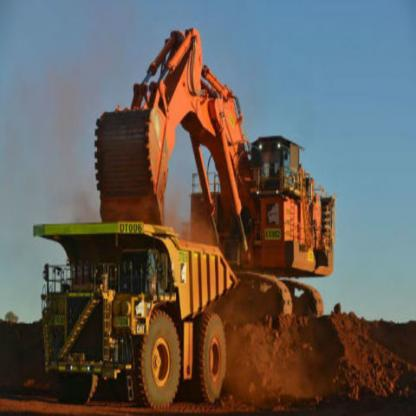dump_truck: (29, 208, 235, 402)
excavator: (78, 14, 346, 337)
